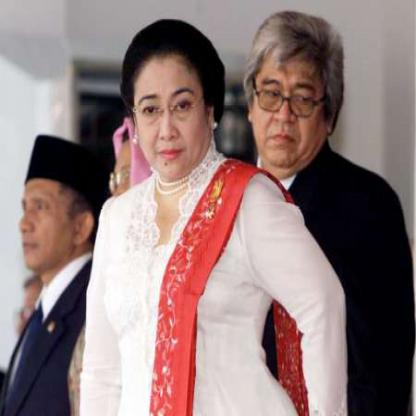face: (248, 15, 335, 171), (133, 27, 210, 180), (15, 143, 80, 276)
